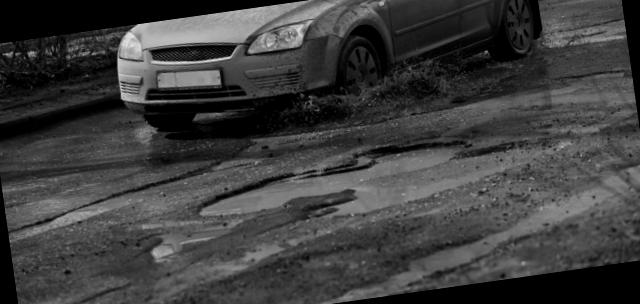Pothole: (168, 96, 552, 274), (0, 124, 239, 273), (456, 48, 634, 134)
